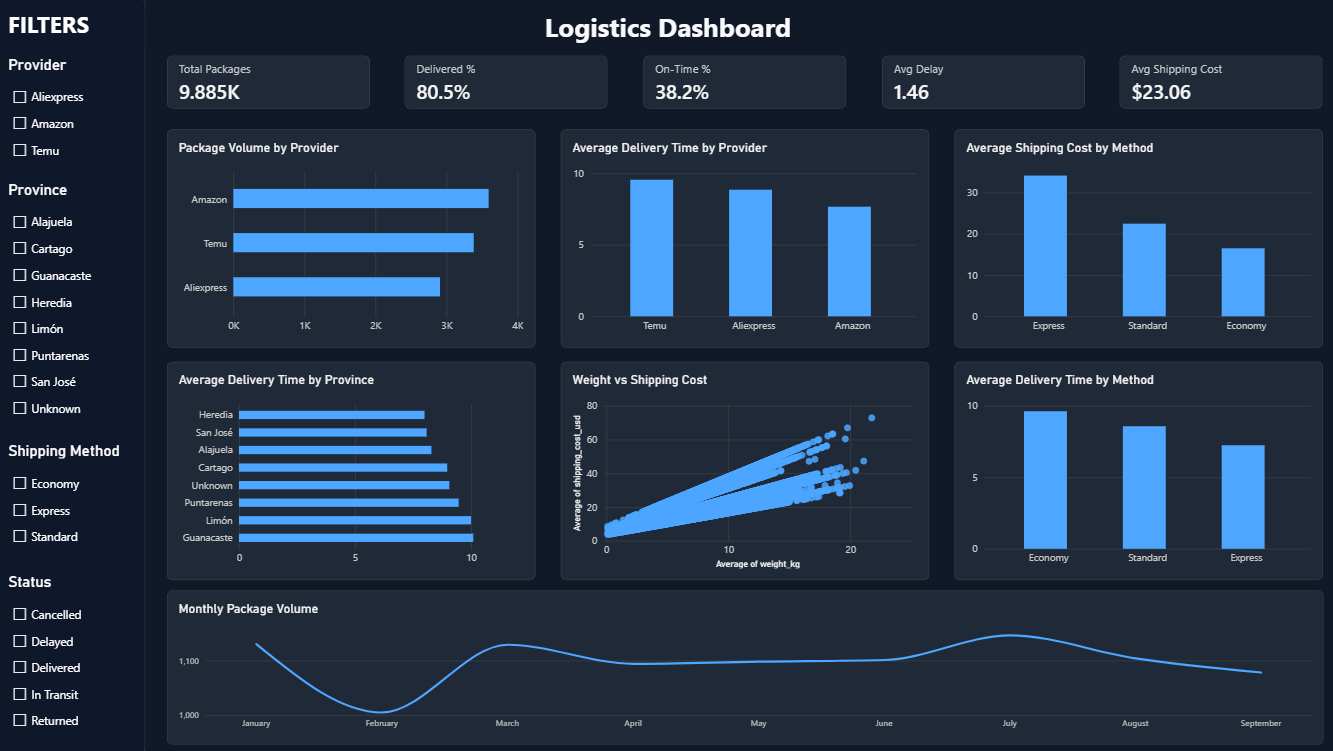

The page's visual inventory and layout, read from the dashboard file:
{"tool":"powerbi","page":{"name":"Page 1","canvas":[1920,1080],"ordinal":0},"visuals":[{"type":"cardVisual","fields":{"Data":["packages_clean.Total Packages"]},"box":[242,82,290,76],"z":0},{"type":"cardVisual","fields":{"Data":["packages_clean.Avg Delay"]},"box":[1263.5,82,290,76],"z":1000},{"type":"cardVisual","fields":{"Data":["packages_clean.Avg Shipping Cost"]},"box":[1604,82,290,76],"z":2000},{"type":"cardVisual","fields":{"Data":["packages_clean.Delivered %"]},"box":[582.5,82,290,76],"z":3000},{"type":"cardVisual","fields":{"Data":["packages_clean.On-Time %"]},"box":[923,82,290,76],"z":4000},{"type":"clusteredBarChart","title":"Package Volume by Provider","fields":{"Category":["packages_clean.provider"],"Y":["CountNonNull(packages_clean.package_id)"]},"box":[242,188,526,312],"z":5000},{"type":"clusteredColumnChart","title":"Average Delivery Time by Provider","fields":{"Category":["packages_clean.provider"],"Y":["Avg(packages_clean.delivery_days)"]},"box":[805,188,526,312],"z":6000},{"type":"clusteredColumnChart","title":"Average Shipping Cost by Method","fields":{"Category":["packages_clean.shipping_method"],"Y":["Avg(packages_clean.shipping_cost_usd)"]},"box":[1368,188,526,312],"z":7000},{"type":"clusteredColumnChart","title":"Average Delivery Time by Method","fields":{"Category":["packages_clean.shipping_method"],"Y":["Avg(packages_clean.delivery_days)"]},"box":[1368,520,526,312],"z":8000},{"type":"clusteredBarChart","title":"Average Delivery Time by Province","fields":{"Category":["packages_clean.destination_province"],"Y":["Avg(packages_clean.delivery_days)"]},"box":[242,520,526,312],"z":9000},{"type":"lineChart","title":"Monthly Package Volume","fields":{"Category":["packages_clean.order_date.Variation.Date Hierarchy.Year","packages_clean.order_date.Variation.Date Hierarchy.Month"],"Y":["CountNonNull(packages_clean.package_id)"]},"box":[242,846,1652,220],"z":10000},{"type":"shape","box":[0,0,212,1080],"z":10500},{"type":"scatterChart","title":"Weight vs Shipping Cost","fields":{"Category":["packages_clean.package_id"],"X":["Avg(packages_clean.weight_kg)"],"Y":["Avg(packages_clean.shipping_cost_usd)"]},"box":[805,520,526,312],"z":11000},{"type":"slicer","title":"Provider","fields":{"Values":["packages_clean.provider"]},"box":[16.4,81.8,186.4,156.4],"z":12000},{"type":"slicer","title":"Province","fields":{"Values":["packages_clean.destination_province"]},"box":[15.7,261.4,185.7,348.6],"z":13000},{"type":"slicer","title":"Shipping Method","fields":{"Values":["packages_clean.shipping_method"]},"box":[15.7,634.3,185.7,164.3],"z":14000},{"type":"slicer","title":"Status","fields":{"Values":["packages_clean.status"]},"box":[15.7,821.4,185.7,240],"z":15000},{"type":"textbox","box":[654,16,610,78],"z":16000},{"type":"textbox","box":[16,16,194,62],"z":17000}]}

Visuals, with their boxes in screenshot pixels (x1, y1, x2, y2), scaled from the page's 1920x1080 canvas onto the 1333x751 screenshot:
cardVisual - packages_clean.Total Packages: box(168, 57, 369, 110)
cardVisual - packages_clean.Avg Delay: box(877, 57, 1079, 110)
cardVisual - packages_clean.Avg Shipping Cost: box(1114, 57, 1315, 110)
cardVisual - packages_clean.Delivered %: box(404, 57, 606, 110)
cardVisual - packages_clean.On-Time %: box(641, 57, 842, 110)
"Package Volume by Provider" clusteredBarChart: box(168, 131, 533, 348)
"Average Delivery Time by Provider" clusteredColumnChart: box(559, 131, 924, 348)
"Average Shipping Cost by Method" clusteredColumnChart: box(950, 131, 1315, 348)
"Average Delivery Time by Method" clusteredColumnChart: box(950, 362, 1315, 579)
"Average Delivery Time by Province" clusteredBarChart: box(168, 362, 533, 579)
"Monthly Package Volume" lineChart: box(168, 588, 1315, 741)
shape: box(0, 0, 147, 750)
"Weight vs Shipping Cost" scatterChart: box(559, 362, 924, 579)
"Provider" slicer: box(11, 57, 141, 166)
"Province" slicer: box(11, 182, 140, 424)
"Shipping Method" slicer: box(11, 441, 140, 555)
"Status" slicer: box(11, 571, 140, 738)
textbox: box(454, 11, 878, 65)
textbox: box(11, 11, 146, 54)
